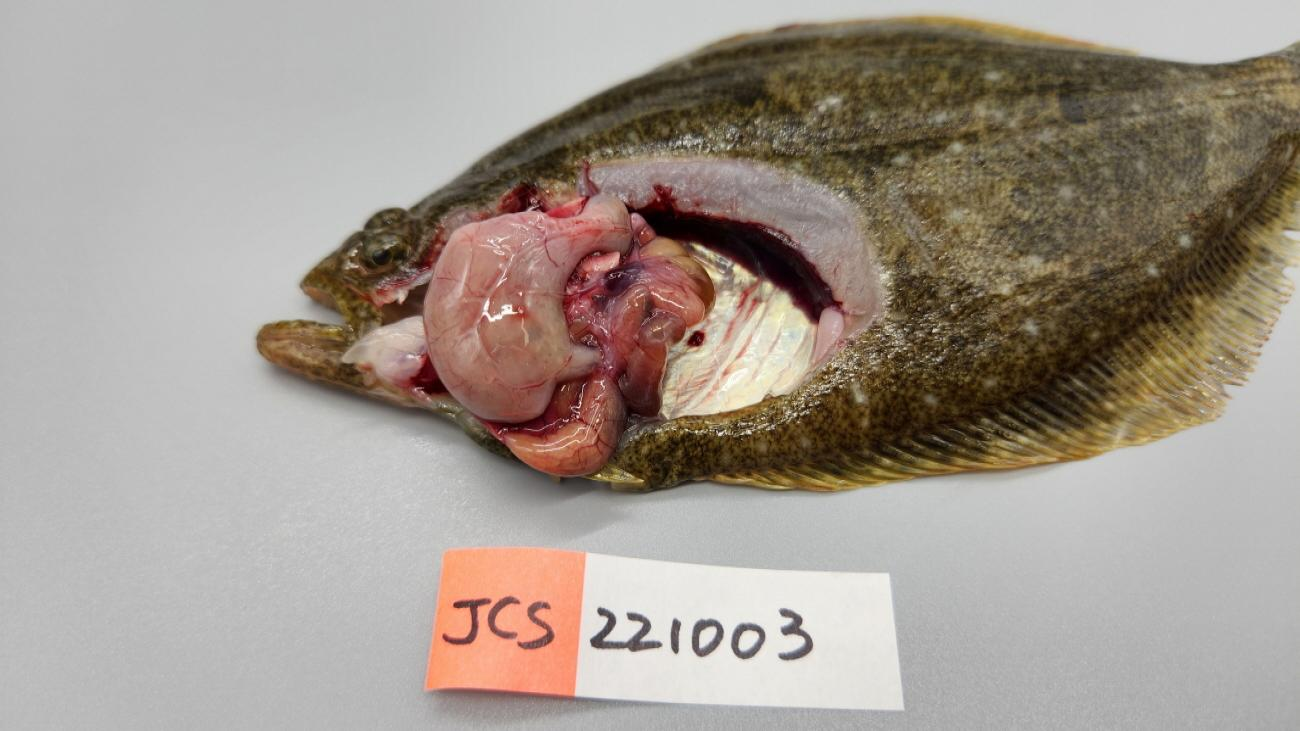POSPN: (602, 262, 643, 292)
